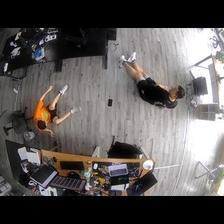fall: (118, 50, 185, 110), (32, 84, 82, 135)
